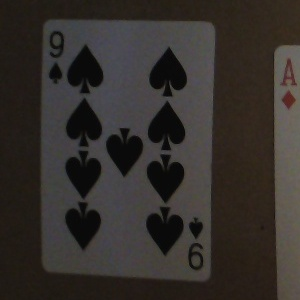card: (39, 17, 214, 283)
